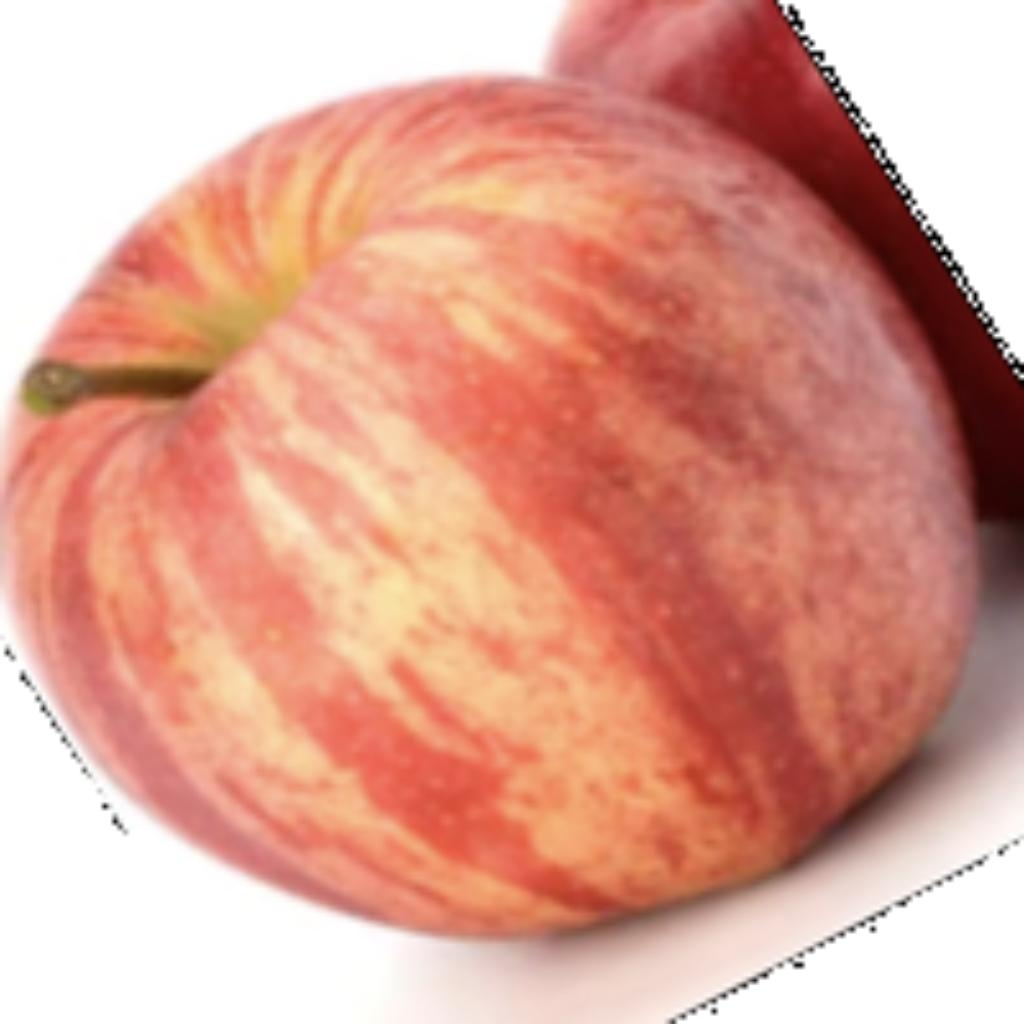apple: (0, 0, 1019, 1019)
